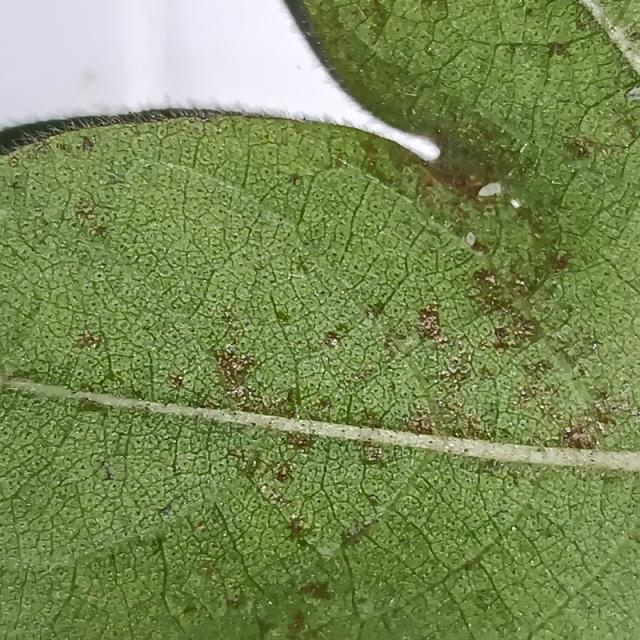Bacterial_Blight: (409, 369, 492, 443), (420, 155, 498, 213), (348, 134, 412, 192), (211, 344, 259, 401), (350, 586, 397, 632), (345, 8, 393, 51), (494, 311, 543, 350), (407, 1, 454, 35), (563, 135, 635, 157), (435, 359, 474, 393), (416, 304, 445, 343), (258, 480, 294, 511), (560, 422, 598, 450), (471, 266, 503, 299), (342, 521, 376, 546), (592, 401, 620, 427), (382, 333, 412, 357), (298, 581, 333, 601), (295, 619, 326, 640), (406, 416, 437, 436), (169, 428, 182, 474), (286, 430, 313, 452), (75, 329, 102, 350), (360, 442, 387, 462), (370, 297, 395, 317), (315, 539, 341, 558), (567, 139, 591, 159), (78, 396, 108, 412), (8, 368, 41, 382), (74, 200, 97, 220), (465, 236, 489, 255), (288, 611, 305, 634), (256, 617, 275, 637), (356, 598, 376, 617), (97, 460, 115, 481), (289, 516, 308, 535), (461, 556, 483, 572), (322, 330, 341, 348), (552, 254, 570, 272), (350, 4, 368, 22), (226, 594, 246, 610), (275, 464, 292, 482), (167, 373, 185, 389), (550, 42, 569, 57), (220, 308, 236, 325), (494, 326, 510, 341), (81, 136, 96, 152), (315, 397, 332, 411), (274, 310, 291, 323), (107, 172, 124, 185), (158, 503, 173, 517), (91, 224, 107, 237), (295, 259, 309, 273), (288, 173, 303, 186), (82, 70, 97, 83), (182, 604, 198, 615), (31, 290, 45, 301), (229, 361, 243, 372), (8, 155, 20, 167), (335, 156, 347, 168), (8, 180, 22, 190), (519, 142, 529, 155), (324, 64, 337, 73), (515, 278, 526, 288), (591, 342, 600, 352), (199, 113, 208, 121), (564, 426, 572, 434), (84, 396, 92, 403), (610, 26, 617, 33), (303, 31, 311, 37), (96, 272, 102, 277)
Cotton: (0, 0, 639, 639)
